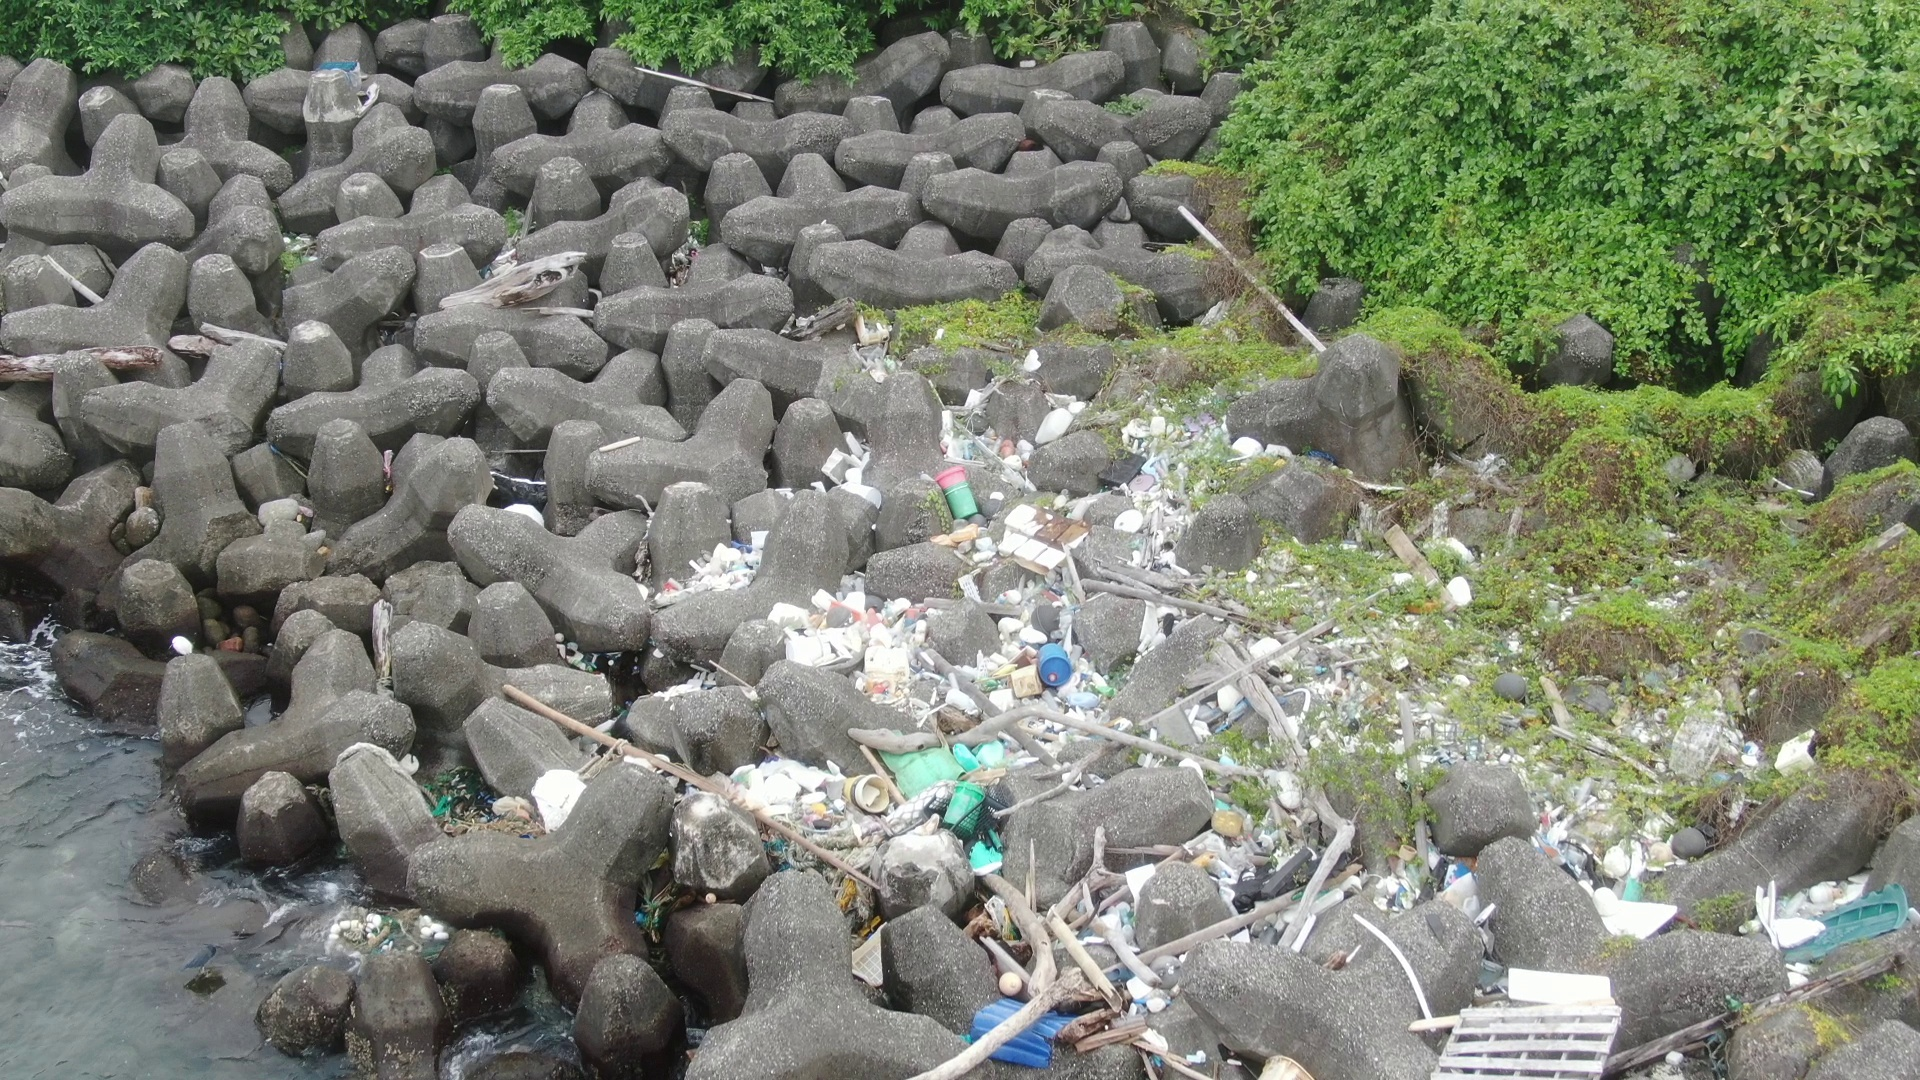garbage: (646, 352, 1341, 717), (986, 862, 1311, 1079), (1180, 738, 1507, 949), (702, 711, 1036, 910), (1530, 765, 1712, 947), (1418, 960, 1619, 1080), (1735, 858, 1917, 963), (320, 890, 455, 967), (423, 754, 524, 835), (543, 622, 644, 680), (628, 862, 678, 957), (529, 767, 597, 835), (313, 49, 373, 88)
